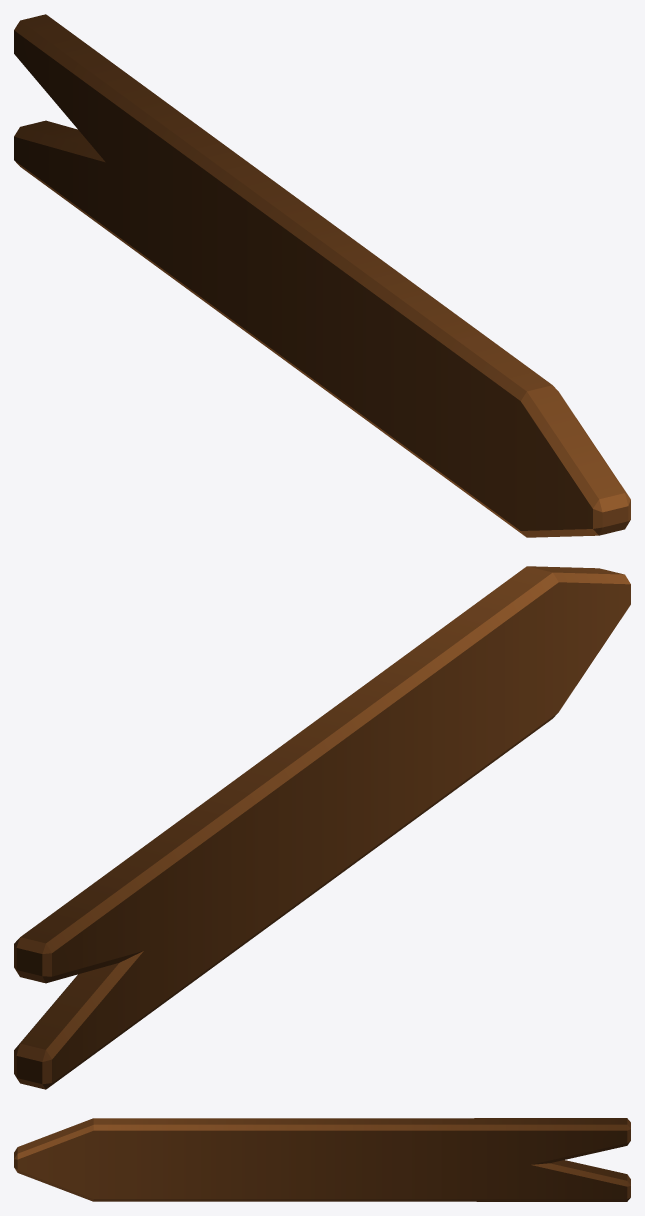
File: Signal-1.fbx
The picture shows the model from 3 angles, top to bottom: view 1: azimuth 30°, elevation 25°; view 2: azimuth 150°, elevation 25°; view 3: azimuth 270°, elevation 25°; orthographic projection. The views are drawn at different scales.
Parts seen in each view (by area): view 1: Signal-1; view 2: Signal-1; view 3: Signal-1.
Boxes of the visible parts, x1,y1,x2,y2 form: Signal-1: (14, 14, 630, 537); Signal-1: (14, 566, 630, 1089); Signal-1: (14, 1118, 630, 1201).
Bounding box in the file's own units: 12.55 × 45.97 × 334.
